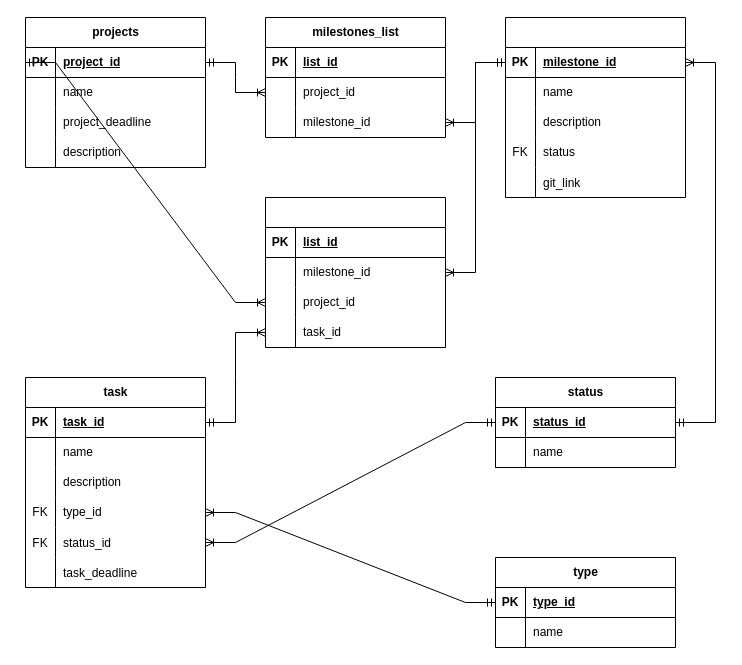
The diagram is 742 pixels wide and 665 high, and some of its shapes have lost their labels. The box of each missing label's shape, as (x1, y1, x2, y2) in pixels:
milestones: (504, 16, 686, 198)
tasks_list: (264, 196, 446, 348)
